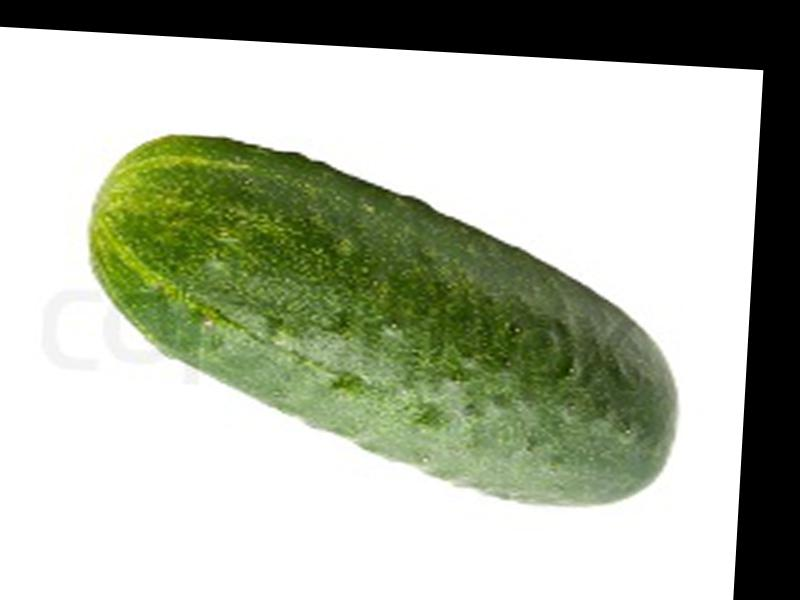Cucumber: (73, 134, 691, 514)
